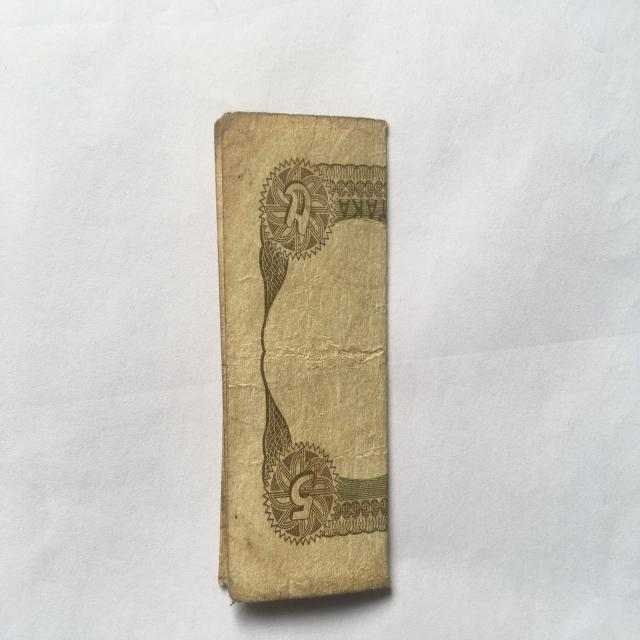Taka: (208, 103, 398, 598)
